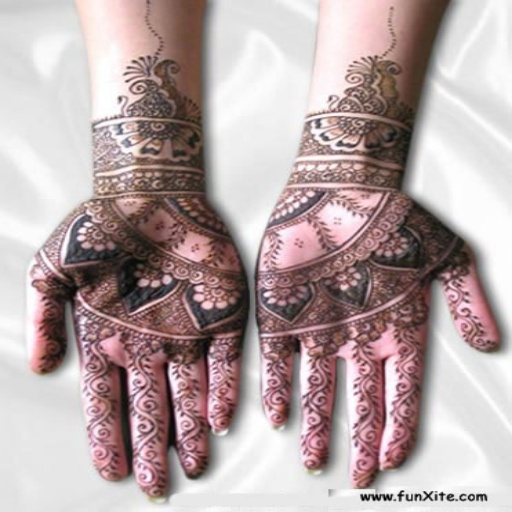hand: (253, 174, 500, 490), (22, 188, 249, 500)
